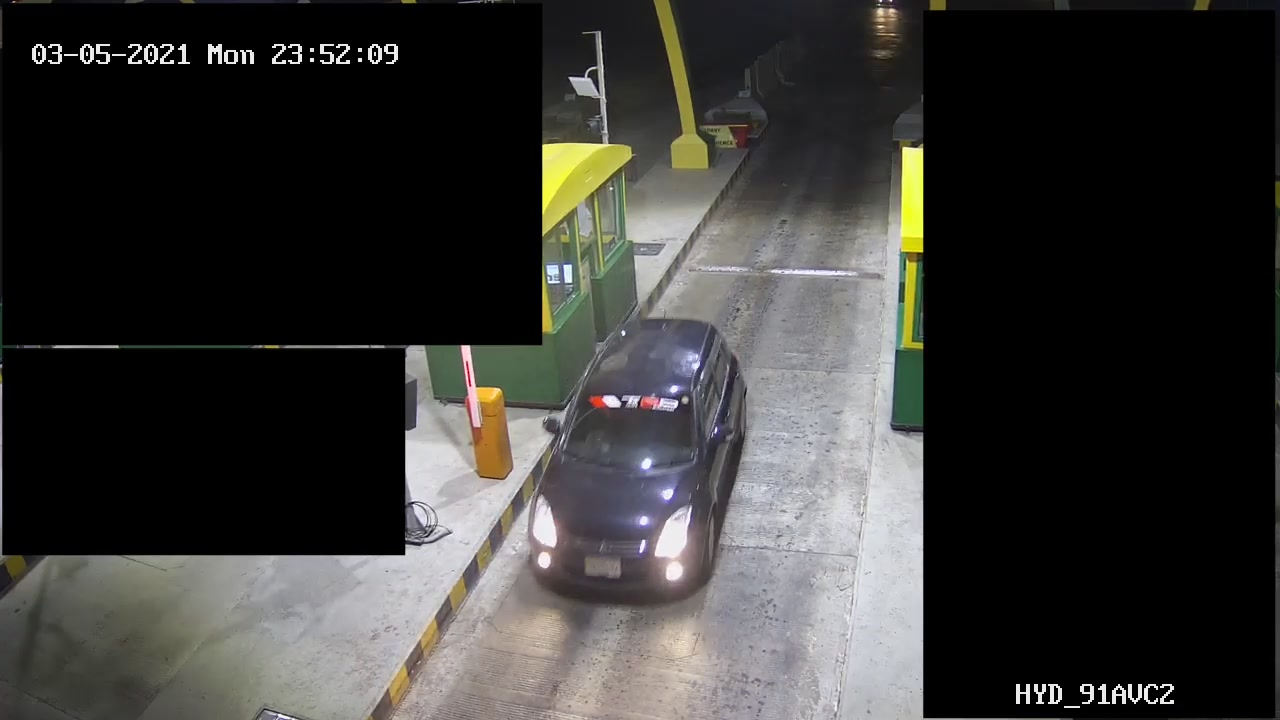F1: (521, 321, 766, 622)
